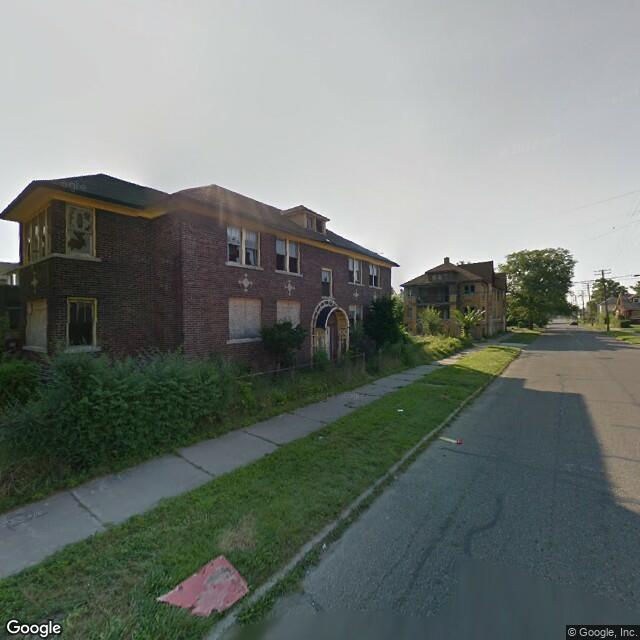litter: (157, 552, 252, 616), (442, 436, 464, 447), (319, 541, 332, 551), (396, 406, 403, 411), (318, 435, 321, 438)
